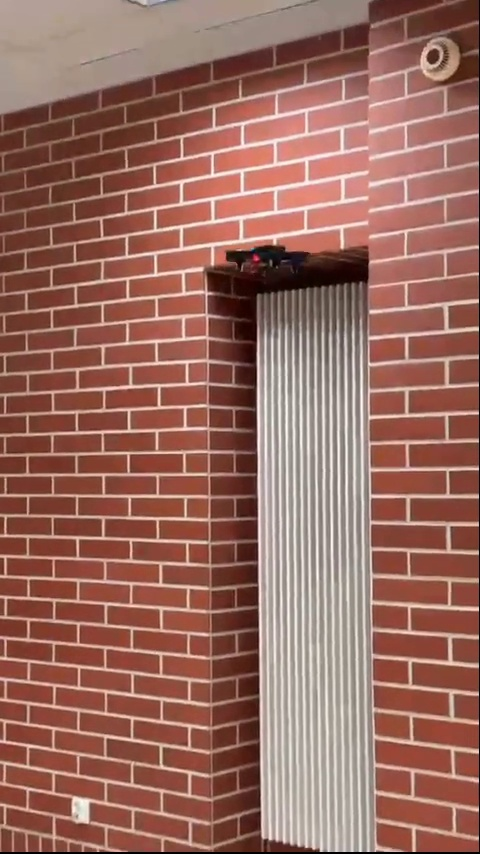drone: (223, 237, 305, 283)
